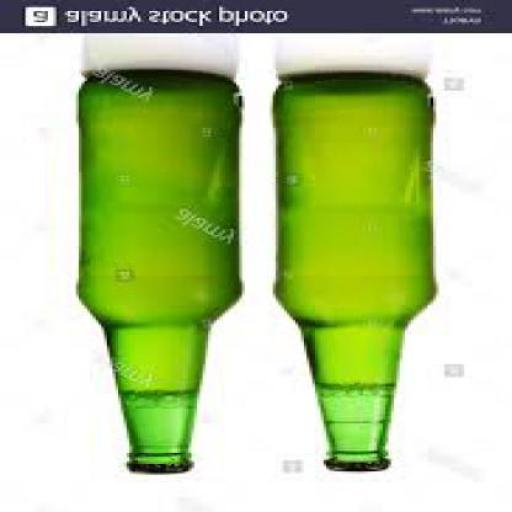glass: (76, 70, 239, 467), (270, 74, 433, 464)
metal: (321, 460, 385, 475), (124, 462, 188, 477)
